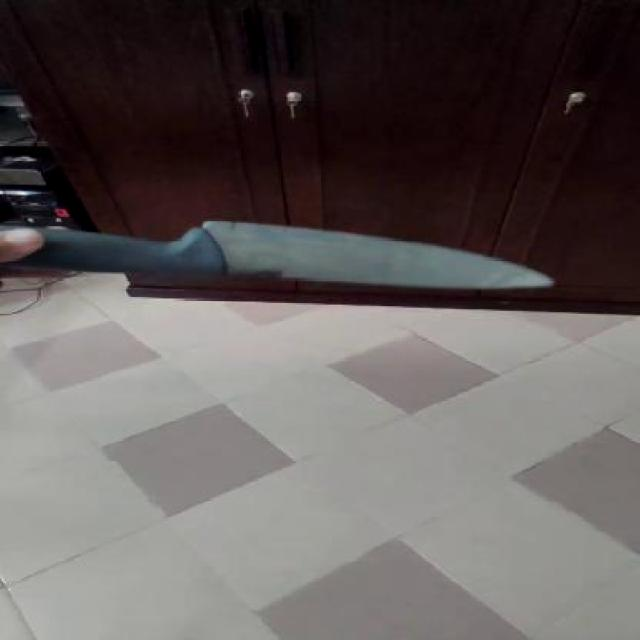knife: (180, 164, 574, 330)
